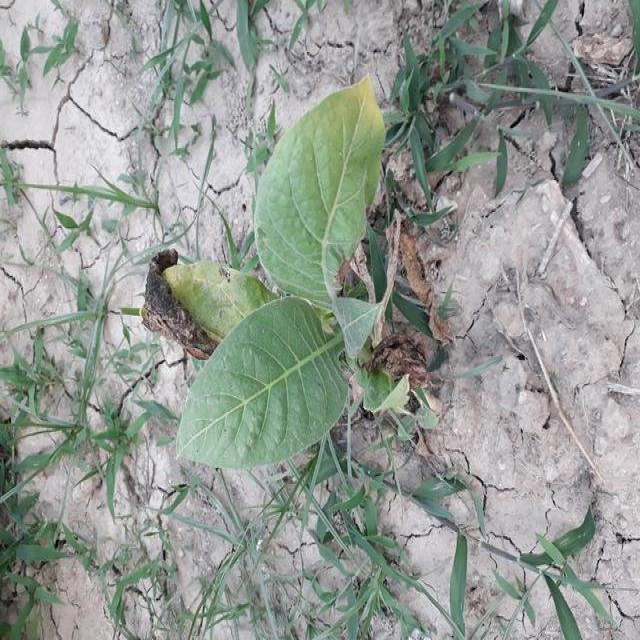crop: (180, 82, 384, 472)
